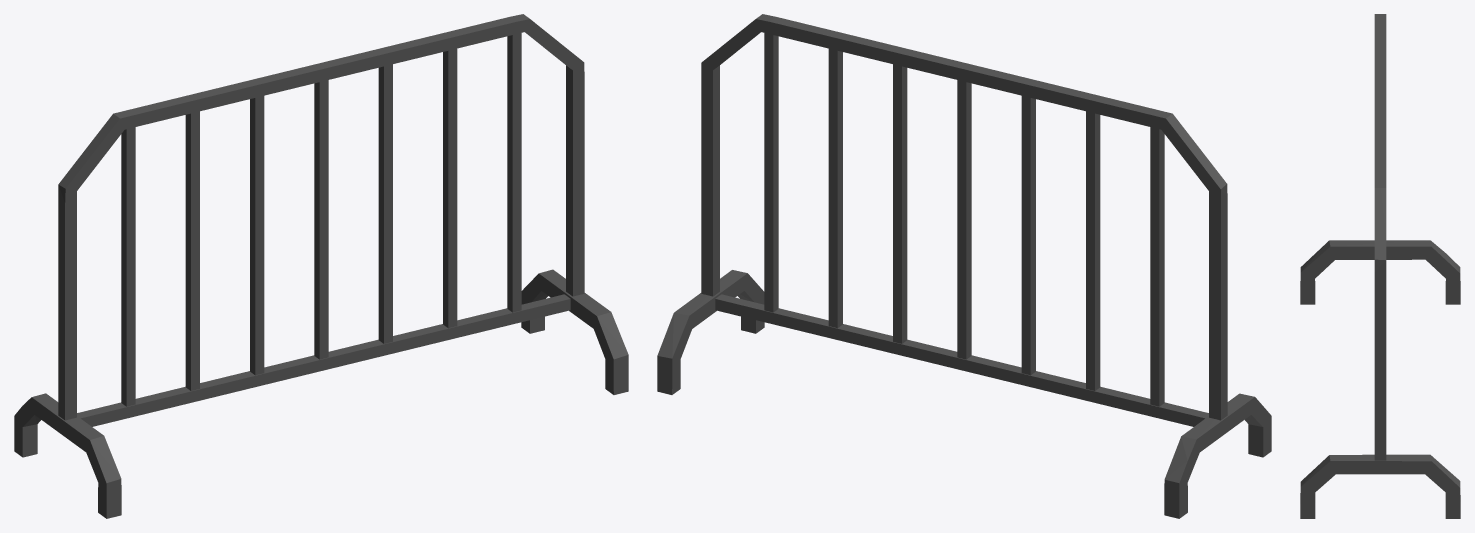
File: Barrier_01.glb
3 views of the same model, side by side, from view 1: azimuth 30°, elevation 25°; view 2: azimuth 150°, elevation 25°; view 3: azimuth 270°, elevation 25° (orthographic). The views are drawn at different scales.
Visible parts, largest first — view 1: Barrier_01; view 2: Barrier_01; view 3: Barrier_01.
Part boxes in pixels (<box>): Barrier_01: <box>14,14,628,518</box>; Barrier_01: <box>657,14,1271,518</box>; Barrier_01: <box>1300,14,1460,518</box>.
Size of the model in its own units: 1.69 by 1.1 by 0.5171.
1 material, 1 textured.
